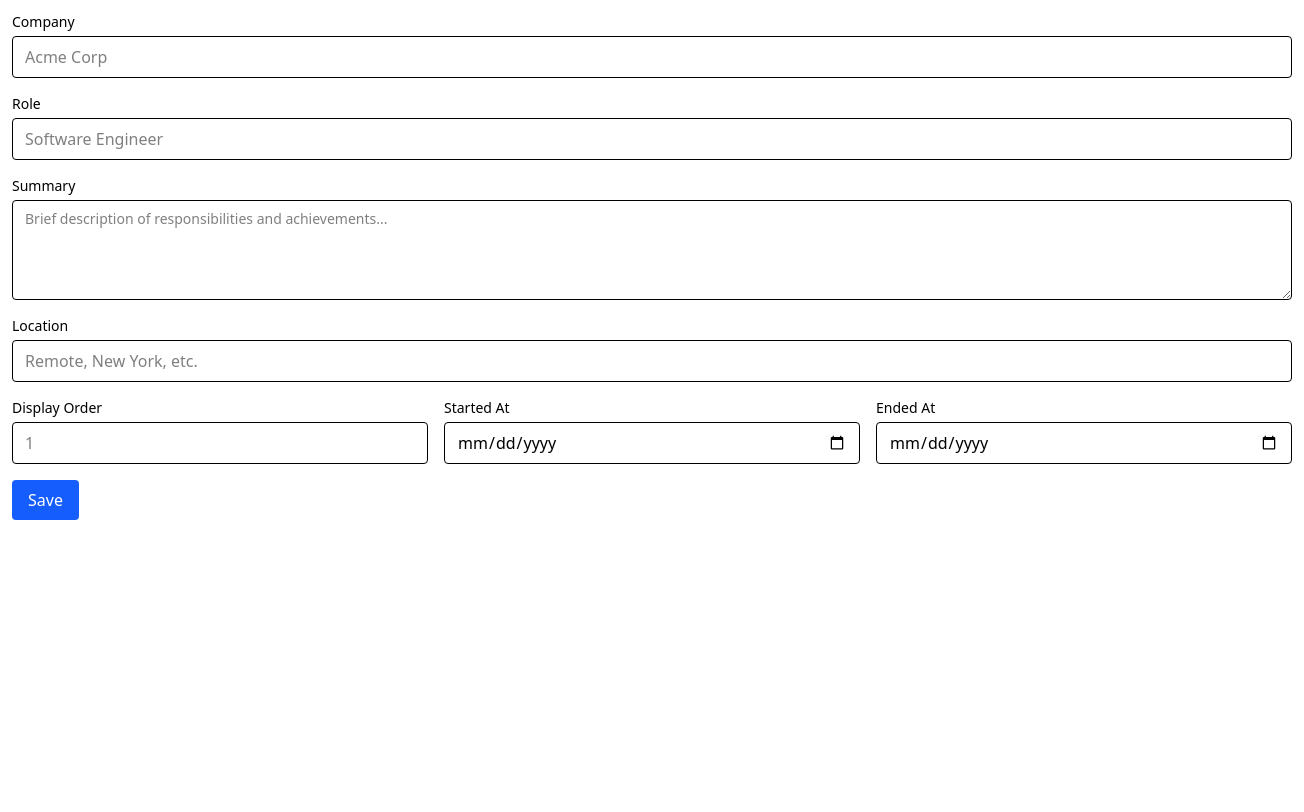
Test: ExperienceForm — new experience › shows validation error when required fields are empty
Click the button "Save": (45, 500) top-left (12, 480), bottom-right (79, 520)
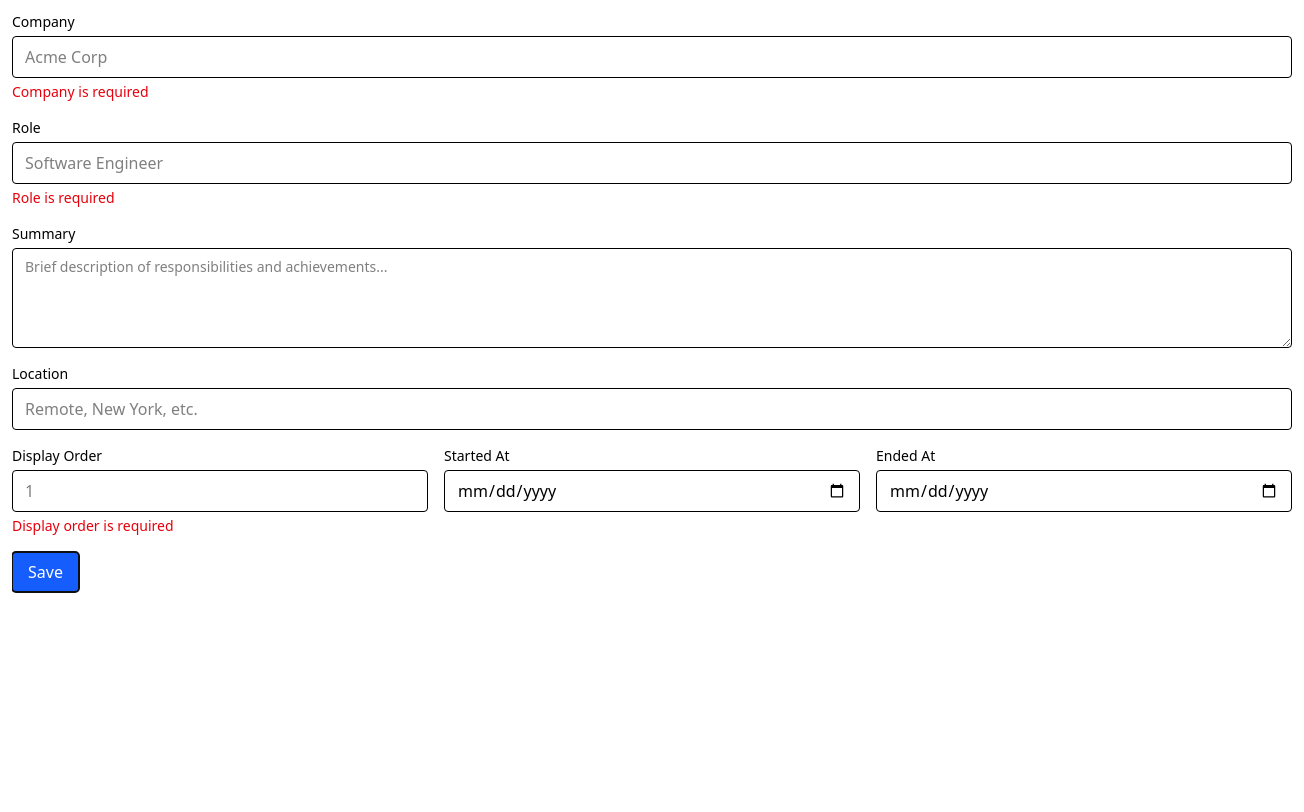
Now the text "Company is required" is shown, box top-left (12, 82), bottom-right (148, 101)
